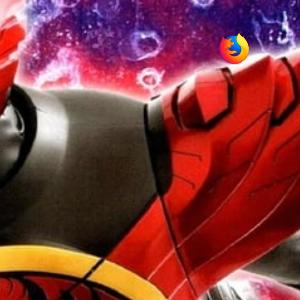firefox: (219, 33, 249, 64)
